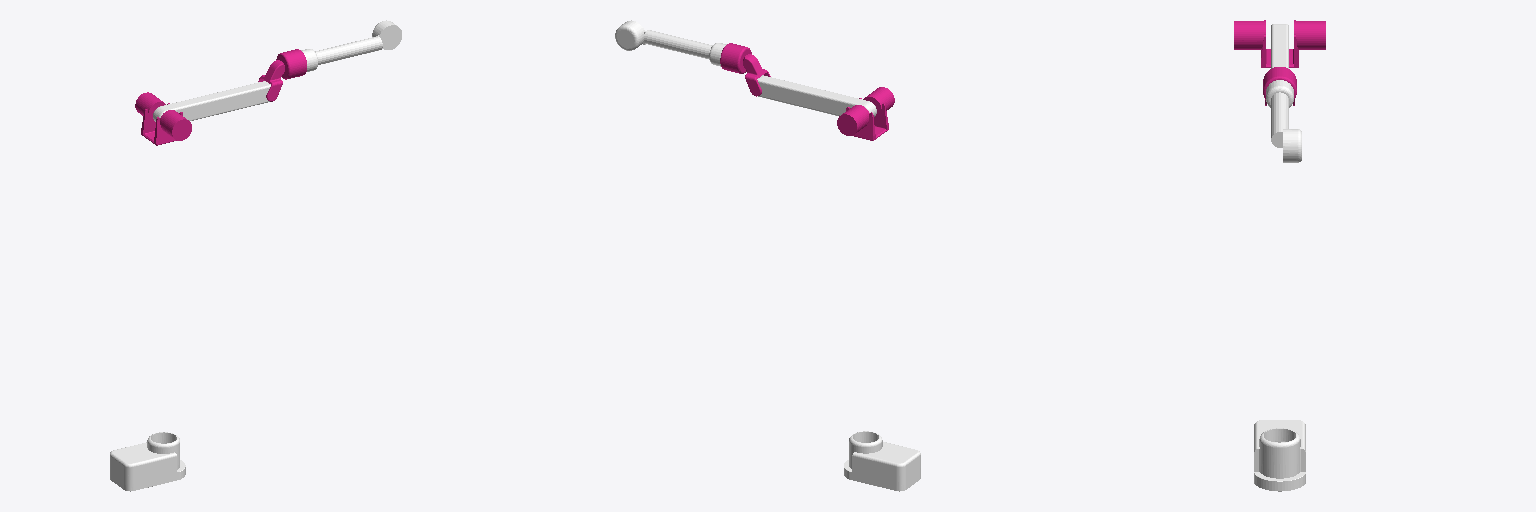
The robot description file, URDF, robot "arm":
<robot name="arm">
    <link name = "base">
        <inertial>
            <mass value="1.546877"/>
            <origin xyz="-0.030474 0.000329 0.051723"/>
            <inertia ixx="0.002534" ixy="-0.00011" ixz="0.000201" iyy="0.005867" iyz="-0.000030" izz="0.006539"/>
        </inertial>
        <visual>
            <geometry>
                <mesh filename="mesh/base.obj" scale="1.0"/>
            </geometry>
            <material name="white">
                <color rgba="1 1 1 1"/>
            </material>
        </visual>
        <collision>
            <origin xyz="-0.045 0 0" rpy="0 0 0"/>
            <geometry>
                <box size="0.206 0.115 0.082"/>
            </geometry>
        </collision>
    </link>

    <link name = "link1">
        <inertial>
            <mass value="1.770103"/>
            <origin xyz="-0.000082 0.000337 0.087753"/>
            <inertia ixx="0.007275" ixy="0.000010" ixz="0.000003" iyy="0.002284" iyz="0.000042" izz="0.006462"/>
        </inertial>
        <visual>
            <geometry>
                <mesh filename="mesh/link1.obj" scale="1.0"/>
            </geometry>
            <origin xyz="0 0 0.0345"/>
            <material name="pink">
                <color rgba="0.9 0.2 0.6 1"/>
            </material>
        </visual>
        <collision>
            <geometry>
                <mesh filename="mesh/link1.obj" scale="1.0"/>
                <origin xyz="0 0 0.0345"/>
            </geometry>
        </collision>
    </link>

    <joint name="joint1" type="revolute">
        <origin xyz="0 0 0.0813"/>
        <origin xyz="0 0 1"/>
        <parent link="base"/>
        <child link="link1"/>
        <axis xyz="0.0 0.0 1.0"/>
        <limit lower="-2.70526" upper="2.70526" effort="24" velocity="22" />
    </joint>

    <link name="link2">
        <inertial>
            <mass value="0.923887"/>
            <origin xyz="0.180777 0.001473 -0.000488"/>
            <inertia ixx="0.000498" iyy="0.013862" izz="0.013889" ixy="0.000099" ixz="0.000033" iyz="0.0"/>
        </inertial>
        <visual>
            <geometry>
                <mesh filename="mesh/link2.obj" scale="1.0"/>
            </geometry>
            <material name="white">
                <color rgba="1 1 1 1"/>
            </material>
        </visual>
            
        <collision>
            <origin xyz="165.75 0 0" rpy="0 0 0"/>
            <geometry>
                <box size="0.38375 0.049 0.052"/>
            </geometry>
        </collision>
    </link>

    <joint name="joint2" type="revolute">
        <parent link="link1"/>
        <child link="link2"/>
        <origin xyz="0 0 0.0995"/>
        <axis xyz="0.0 1.0 0.0"/>
        <limit lower="-3.1415926" upper="0.5236" effort="49.9" velocity="16.4" />
    </joint>

    <link name="link3">
        <inertial>
            <mass value="0.683763"/>
            <origin xyz="0.073116 0.000516 0.058417"/>
            <inertia ixx="0.000581" iyy="0.001184" izz="0.0.001065" ixy="0.000011" ixz="0.000281" iyz="0.000004"/>
        </inertial>
        <visual>
            <geometry>
                <mesh filename="mesh/link3.obj" scale="1.0"/>
            </geometry>
            <material name="pink">
                <color rgba="0.9 0.2 0.6 1"/>
            </material>
        </visual>
        <collision>
            <geometry>
                <mesh filename="mesh/link3.obj" scale="1.0"/>
            </geometry>
        </collision>
    </link>

    <joint name="joint3" type="revolute">
        <parent link="link2"/>
        <child link="link3"/>
        <origin xyz="0.3315 0.0 0.0"/>
        <axis xyz="0.0 1.0 0.0"/>
        <limit lower="0" upper="3.1415926" effort="49.9" velocity="16.4" />
    </joint>

    <link name="link4">
        <inertial>
            <mass value="0.687665"/>
            <origin xyz="0.231585 0.019429 -0.000001"/>
            <inertia ixx="0.000403" iyy="0.005758" izz="0.005807" ixy="0.000609" ixz="-0.000001" iyz="-0.000001"/>
        </inertial>
        <visual>
            <geometry>
                <mesh filename="mesh/link4.obj" scale="1.0"/>
            </geometry>
            <material name="white">
                <color rgba="1 1 1 1"/>
            </material>
        </visual>
        <collision>
            <geometry>
                <cylinder radius="0.020" length="0.283"/>
                <origin xyz="0.1415 0 0" rpy="0 0 1.5707653"/>
            </geometry>
        </collision>
    </link>

    <joint name="joint4" type="revolute">
        <parent link="link3"/>
        <child link="link4"/>
        <origin xyz="0.1121 0 0.065"/>
        <axis xyz="1.0 0.0 0.0"/>
        <limit lower="-2.6180" upper="2.6180" effort="8" velocity="66" />
    </joint>

    <link name="link5">
        <inertial>
            <mass value="0.520227"/>
            <origin xyz="0.076999 -0.004672 -0.002614"/>
            <inertia ixx="0.000292" iyy="0.000386" izz="0.000381" ixy="0.000002" ixz="-0.000004" iyz="0.000001"/>
        </inertial>
        <visual>
            <geometry>
                <mesh filename="/mesh/link5.obj"/>
            </geometry>
            <material name="pink">
                <color rgba="0.9 0.2 0.6 1"/>
            </material>
        </visual>
        <collision>
            <geometry>
                <mesh filename="mesh/link5.obj"/>
            </geometry>
        </collision>
    </link>

    <joint name="joint5" type="revolute">
        <parent link="link4"/>
        <child link="link5"/>
        <origin xyz="0.283 0.00805 0.0"/>
        <axis xyz="0.0 1.0 0.0"/>
        <limit lower="-1.7453" upper="1.7453" effort="8" velocity="66"/>
    </joint>

    <link name="end-effector">
    </link>

    <joint name="joint6" type="revolute">
        <parent link="link5"/>
        <child link="end-effector"/>
        <origin xyz="0.10424 0.00406 0.00366"/>
        <axis xyz="1.0 0.0 0.0"/>
        <limit lower="-3.1415926" upper="3.1415926" effort="8" velocity="66" />
    </joint>
</robot>

--- Render facts (derived) ---
3 views of the same robot in one strip: view 1: azimuth 30°, elevation 25°; view 2: azimuth 150°, elevation 25°; view 3: azimuth 270°, elevation 25° (orthographic).
Model arm with 7 links and 6 joints (6 revolute), rooted at base, posed every joint at zero.
Visible links, largest first — view 1: base, link2, link4, link1, link3; view 2: base, link2, link4, link1, link3; view 3: base, link1, link4, link2, link3.
Link boxes in pixels (bbox=[...]): base: bbox=[110, 432, 185, 491]; link2: bbox=[153, 81, 270, 121]; link4: bbox=[301, 20, 401, 71]; link1: bbox=[135, 92, 191, 145]; link3: bbox=[258, 49, 306, 101]; base: bbox=[844, 431, 920, 491]; link2: bbox=[757, 75, 876, 116]; link4: bbox=[615, 20, 726, 66]; link1: bbox=[837, 87, 894, 140]; link3: bbox=[720, 43, 770, 96]; base: bbox=[1254, 420, 1305, 491]; link1: bbox=[1234, 20, 1325, 67]; link4: bbox=[1266, 80, 1301, 162]; link2: bbox=[1271, 24, 1288, 68]; link3: bbox=[1263, 67, 1296, 105].
Size in the robot's own frame: 0.9224 by 0.2055 by 1.21 metres.
Meshes: 5 distinct files referenced, 5 mesh visuals loaded (5 OBJ); not drawn: 1 (reference in a form the renderer does not follow; not among the files counted above).
